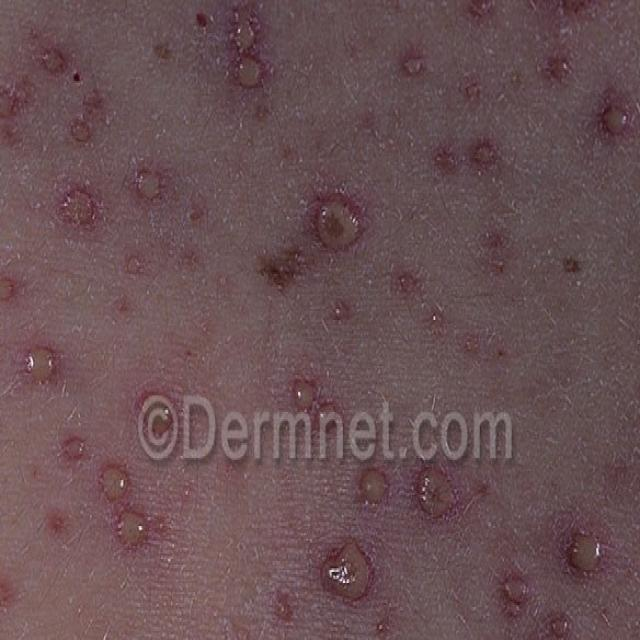Viral Infections: (0, 35, 640, 640)
